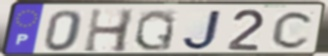0: (42, 8, 85, 53)
2: (226, 8, 265, 52)
C: (269, 9, 317, 50)
H: (81, 7, 137, 54)
J: (180, 9, 224, 52)
Q: (132, 8, 178, 52)
